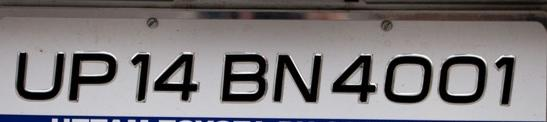0: (435, 49, 491, 106), (382, 47, 435, 107)
1: (489, 50, 524, 110), (126, 51, 155, 105)
4: (326, 46, 383, 107), (216, 48, 272, 108), (153, 46, 203, 111)
N: (268, 47, 325, 107)
P: (65, 47, 120, 107)
U: (7, 47, 68, 103)
